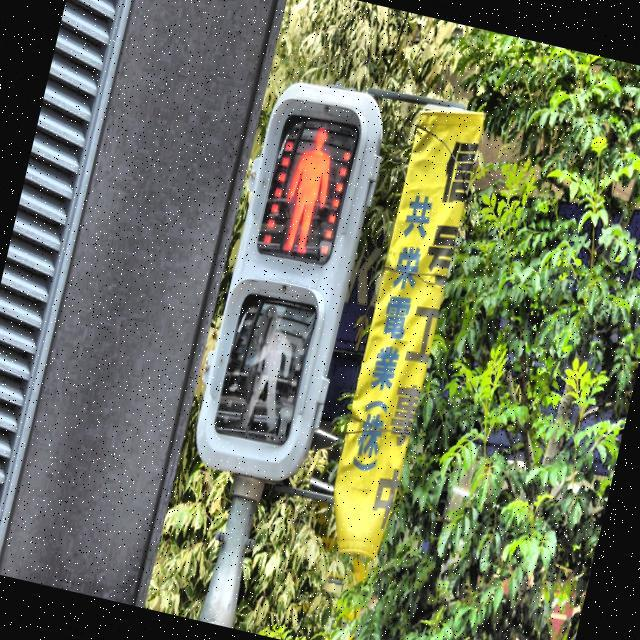red_light: (272, 118, 344, 262)
